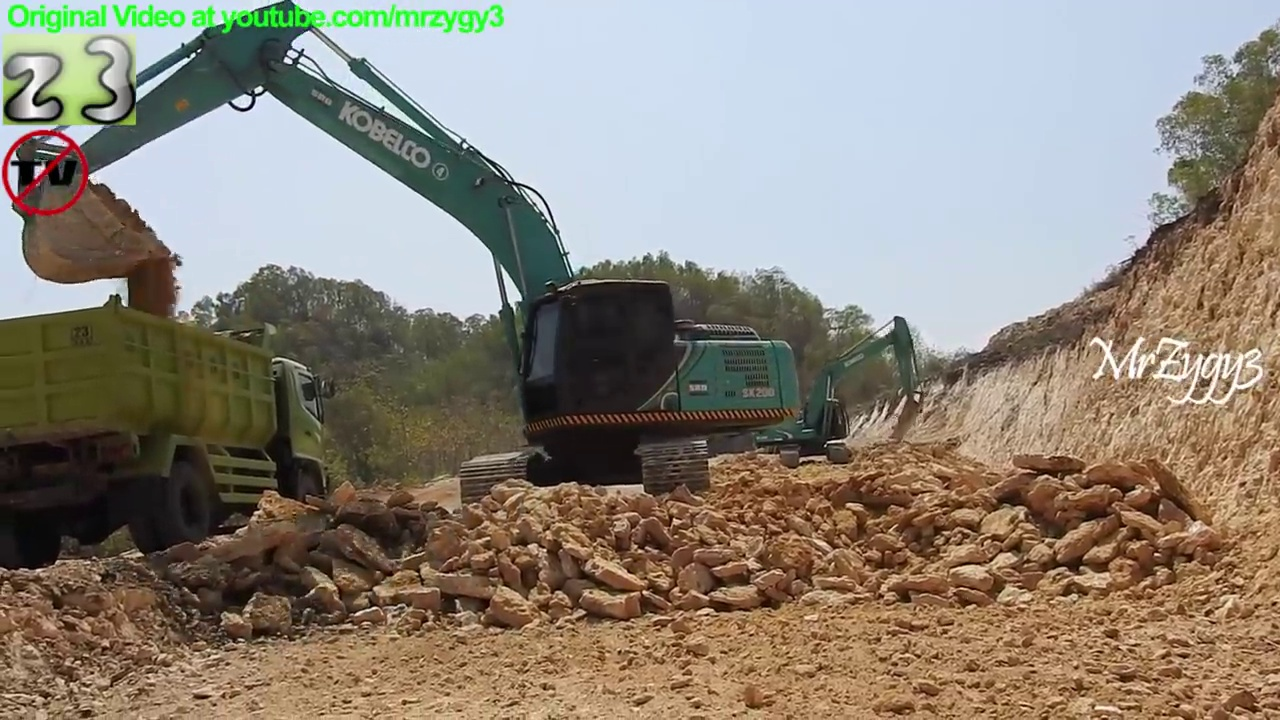excavator: (7, 1, 806, 528), (747, 312, 933, 472)
truck: (1, 293, 341, 575)
